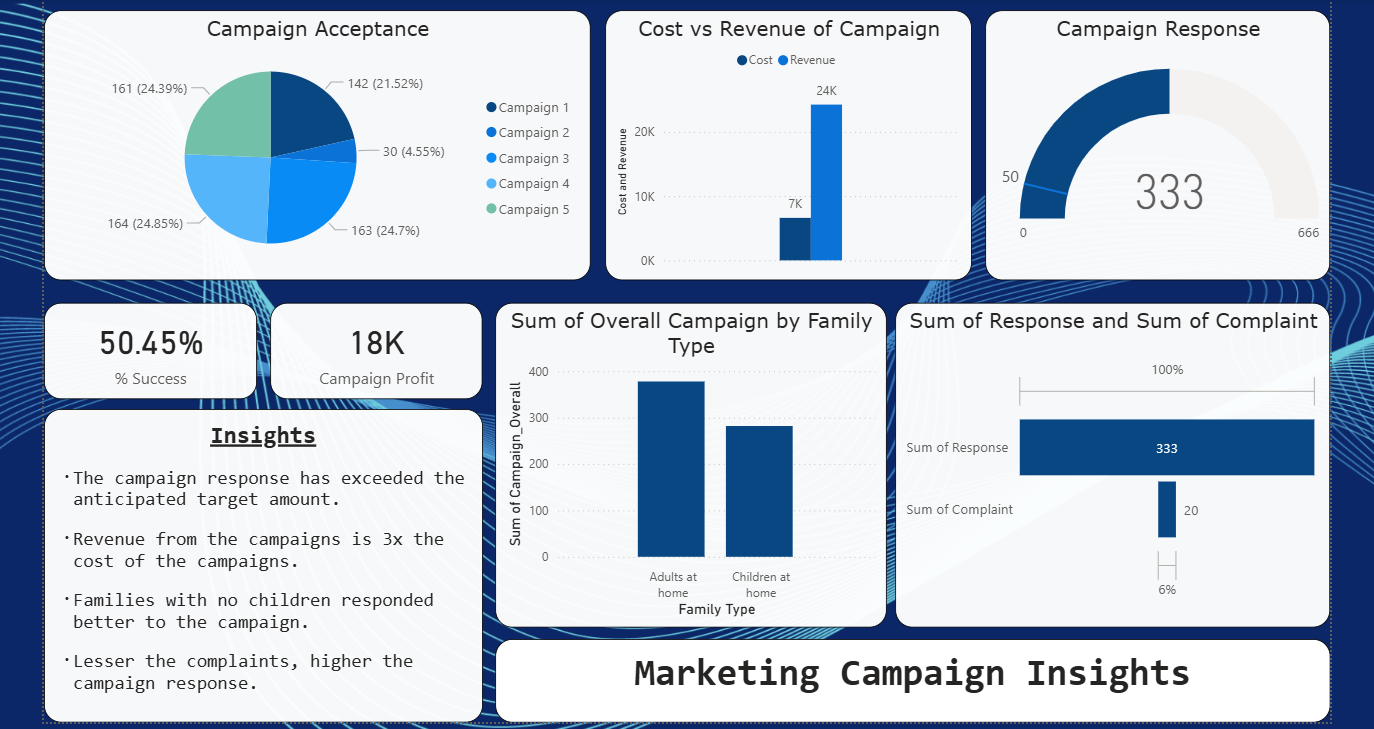

The page's visual inventory and layout, read from the dashboard file:
{"tool":"powerbi","page":{"name":"Page 2","canvas":[1280,720],"ordinal":1},"visuals":[{"type":"pieChart","title":"Campaign Acceptance","fields":{"Y":["Sum(ifood_df.Campaign_1)","Sum(ifood_df.Campaign_2)","Sum(ifood_df.Campaign_3)","Sum(ifood_df.Campaign_4)","Sum(ifood_df.Campaign_5)"]},"box":[0,11.2,543.6,268.7],"z":0},{"type":"clusteredColumnChart","title":"Cost vs Revenue of Campaign","fields":{"Y":["Sum(ifood_df.Z_CostContact)","Sum(ifood_df.Z_Revenue)"]},"box":[558.5,11.2,364.5,268.7],"z":1000},{"type":"gauge","title":"Campaign Response","fields":{"Y":["Sum(ifood_df.Response)"],"TargetValue":["ifood_df.Target_Respone"]},"box":[936.7,11.2,343.3,268.7],"z":2000},{"type":"card","fields":{"Values":["ifood_df.Success"]},"box":[0,302.3,212,95.8],"z":3000},{"type":"card","fields":{"Values":["ifood_df.Campaign_Profit"]},"box":[225.2,302.3,211.5,95.8],"z":4000},{"type":"columnChart","title":"Sum of Overall Campaign by Family Type","fields":{"Y":["Sum(ifood_df.Campaign_Overall)"],"Category":["ifood_df.Family_type"]},"box":[449.1,302.3,389.4,323.4],"z":5000},{"type":"funnel","title":"Sum of Response and Sum of Complaint","fields":{"Y":["Sum(ifood_df.Response)","Sum(ifood_df.Complaint)"]},"box":[847.1,302.3,432.9,323.4],"z":6000},{"type":"textbox","box":[449.1,636.9,831,83.3],"z":7000},{"type":"textbox","box":[0,408,436.6,312.2],"z":8000}]}

Visuals, with their boxes in screenshot pixels (x1, y1, x2, y2):
"Campaign Acceptance" pieChart: box=[43, 11, 586, 280]
"Cost vs Revenue of Campaign" clusteredColumnChart: box=[601, 11, 966, 280]
"Campaign Response" gauge: box=[979, 11, 1323, 280]
card - ifood_df.Success: box=[43, 302, 255, 398]
card - ifood_df.Campaign_Profit: box=[268, 302, 480, 398]
"Sum of Overall Campaign by Family Type" columnChart: box=[492, 302, 881, 626]
"Sum of Response and Sum of Complaint" funnel: box=[890, 302, 1323, 626]
textbox: box=[492, 637, 1323, 720]
textbox: box=[43, 408, 479, 720]
